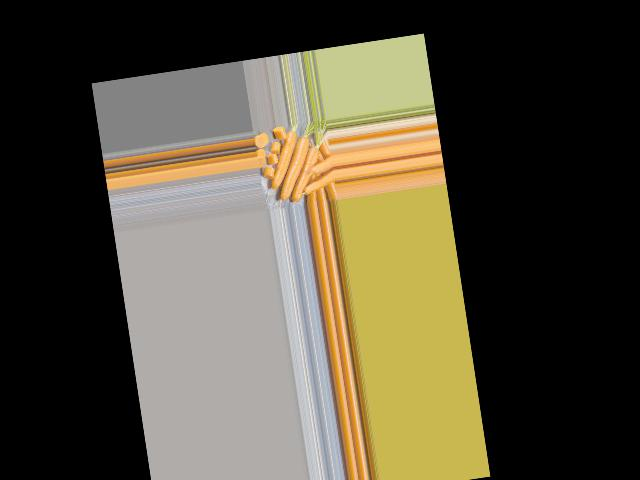carrot: (285, 145, 327, 203)
